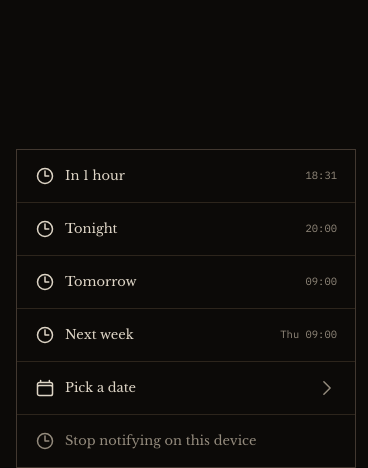
Test: the reminder panel's date picker › puts back a time that is not one
Click the menu item "Pick a date".
click(101, 387)  # box [17,361,355,414]
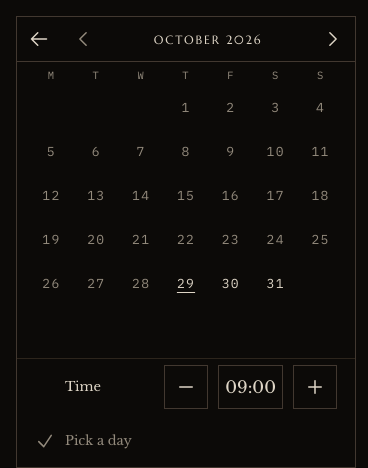
Now the element named "Day" is shown, box [17,86,355,358]
Replace the text in the field named "Reminder time" with "25:99" at (251, 387), box [218,365,283,409]
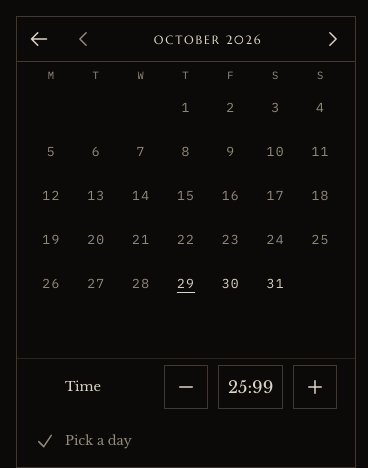
Leave the field named "Reminder time", box [218,365,283,409]
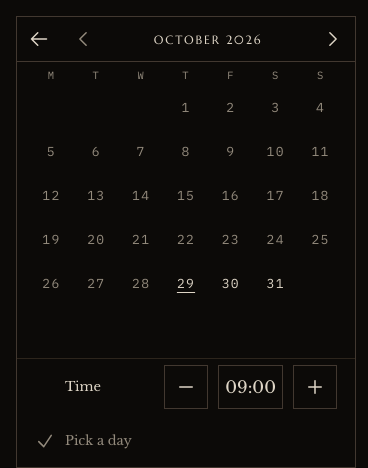
Now the field named "Reminder time" holds "09:00", box [218,365,283,409]
